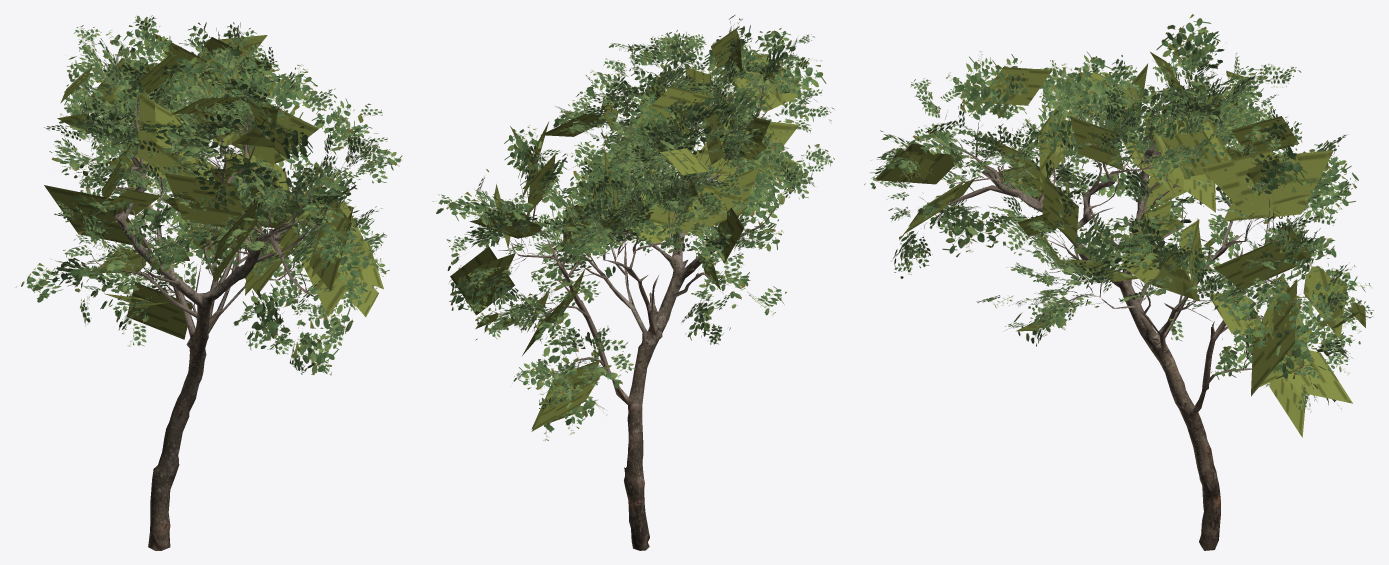
The model's file is arbre_feuillu.glb.
The picture shows the model from 3 angles, left to right: view 1: azimuth 30°, elevation 25°; view 2: azimuth 150°, elevation 25°; view 3: azimuth 270°, elevation 25°; orthographic projection. The views are drawn at different scales.
Visible parts, largest first — view 1: arbre1_feuilles, arbre1_tronc, arbre1_branches; view 2: arbre1_feuilles, arbre1_tronc, arbre1_branches; view 3: arbre1_feuilles, arbre1_tronc, arbre1_branches.
Boxes of the visible parts, x1,y1,x2,y2 form: arbre1_feuilles: (15,15,402,375); arbre1_tronc: (112,156,300,550); arbre1_branches: (81,55,353,332); arbre1_feuilles: (432,14,834,440); arbre1_tronc: (546,130,740,550); arbre1_branches: (473,52,807,393); arbre1_feuilles: (864,14,1373,437); arbre1_tronc: (981,137,1244,550); arbre1_branches: (892,59,1328,383).
Size of the model in its own units: 3 by 4.62 by 4.32.
3 materials, 3 textured.
